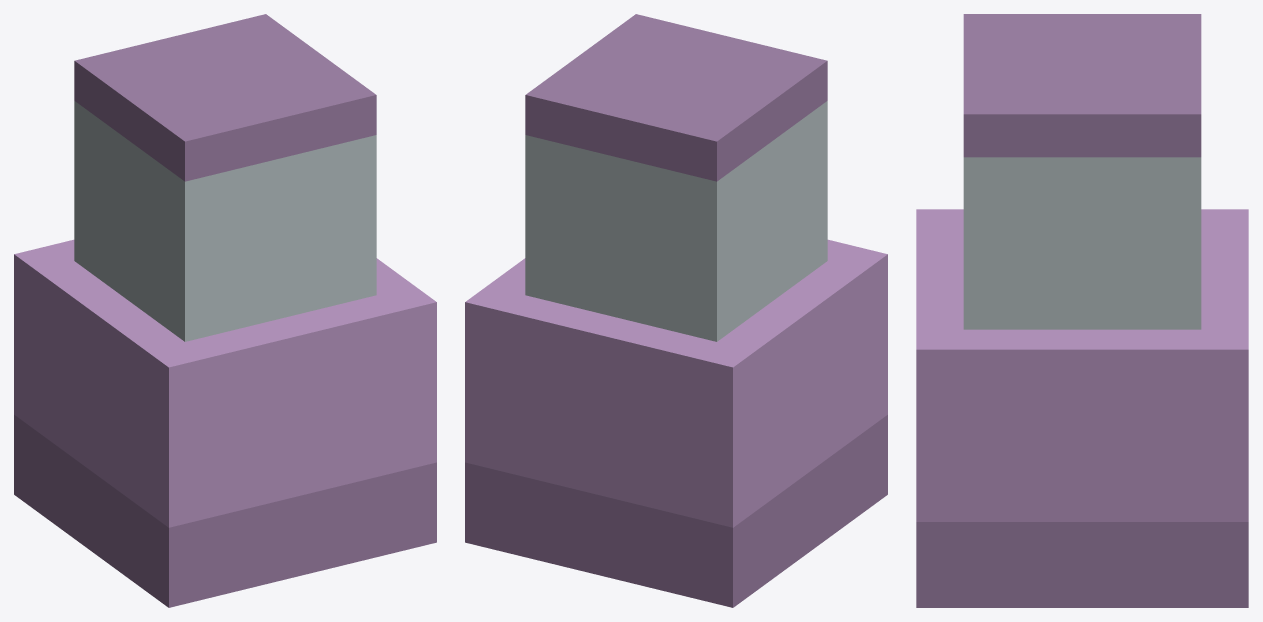
The model's file is lampara_vidrio_coloreado_01.glb.
3 renders of one model, left to right at view 1: azimuth 30°, elevation 25°; view 2: azimuth 150°, elevation 25°; view 3: azimuth 270°, elevation 25°, orthographic. The views are drawn at different scales.
Visible parts, largest first — view 1: lampara_vidrio_coloreado; view 2: lampara_vidrio_coloreado; view 3: lampara_vidrio_coloreado.
Boxes of the visible parts, left/top/right/bottom form: lampara_vidrio_coloreado: left=14, top=14, right=436, bottom=607; lampara_vidrio_coloreado: left=465, top=14, right=887, bottom=607; lampara_vidrio_coloreado: left=916, top=14, right=1248, bottom=607.
Size of the model in its own units: 0.4667 by 0.7333 by 0.4667.
